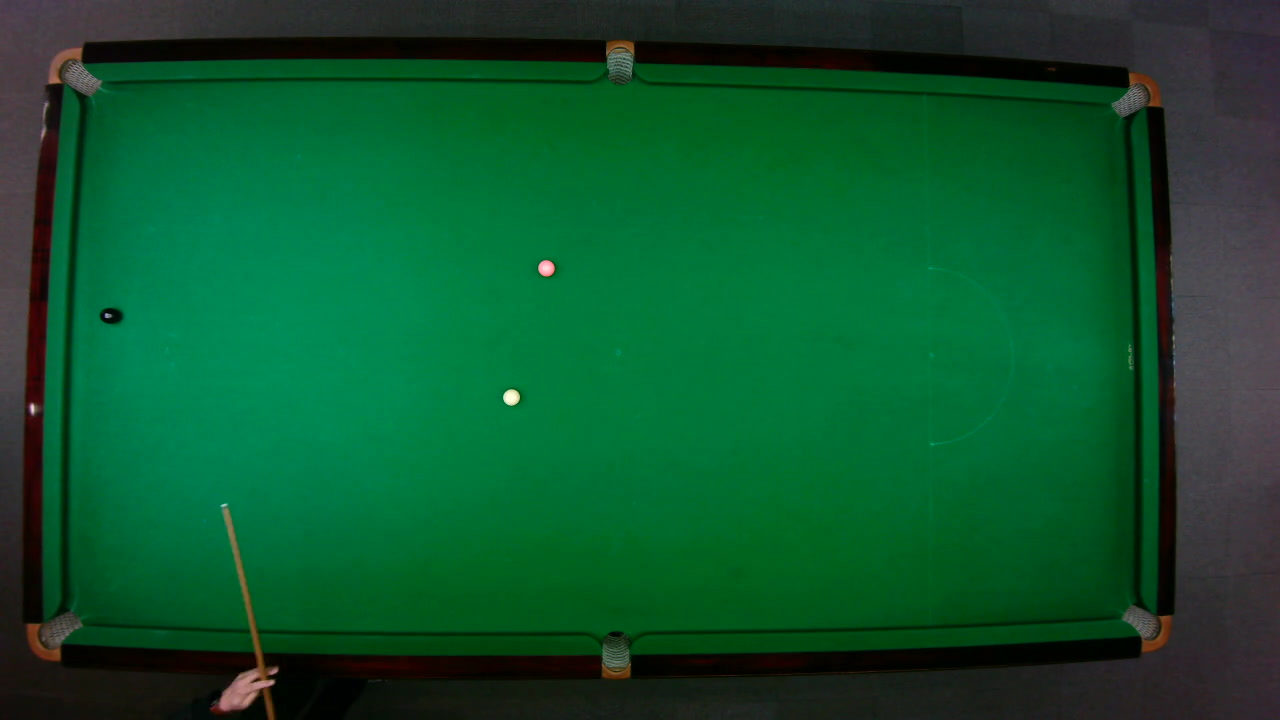bag: (25, 609, 83, 662), (45, 46, 101, 96), (1119, 603, 1171, 652), (1108, 71, 1162, 118), (600, 629, 630, 680), (605, 38, 633, 85)
black: (98, 306, 120, 324)
cue: (220, 503, 275, 720)
pink: (536, 258, 555, 277)
white: (501, 387, 521, 406)
zone: (927, 266, 1013, 445)
